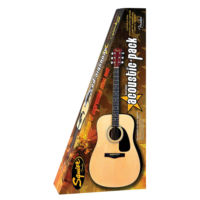guitar: (88, 49, 142, 188)
